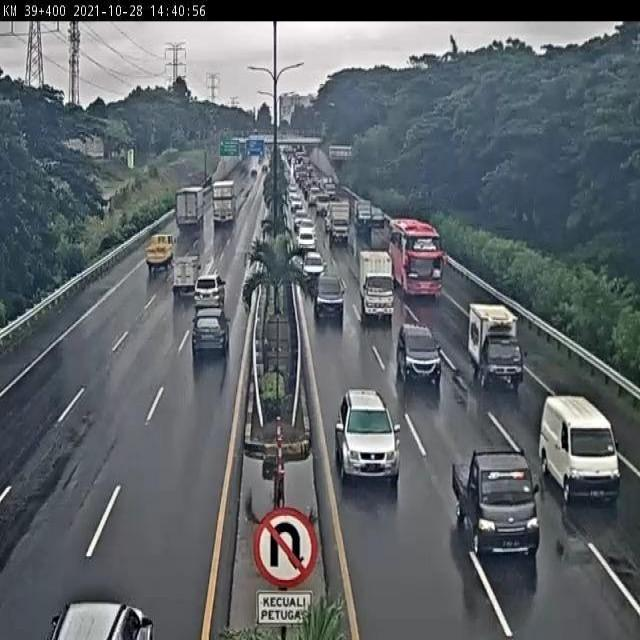bus-l-: (387, 217, 443, 296)
car: (450, 446, 542, 558), (538, 395, 623, 505), (333, 387, 402, 485), (396, 322, 443, 386), (190, 306, 232, 354), (314, 274, 346, 322), (192, 274, 226, 310), (300, 248, 327, 281)
small truck: (144, 233, 175, 272), (170, 253, 201, 292)
truck-m-: (356, 248, 395, 319)
truck-s-: (466, 302, 527, 390)
